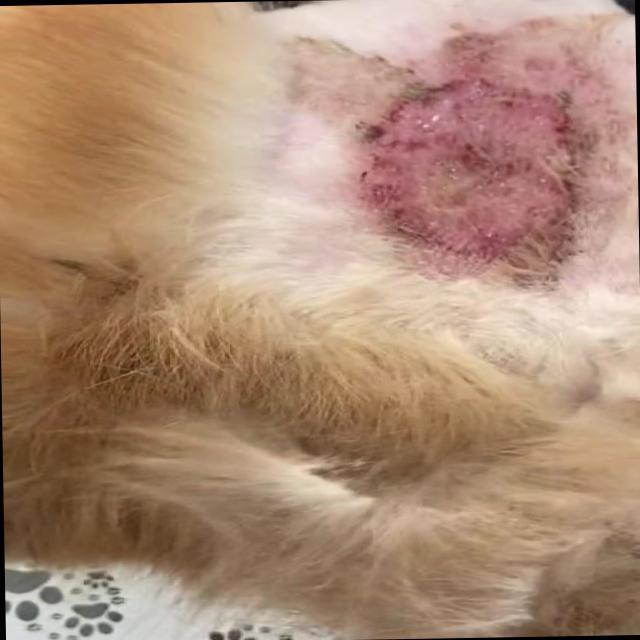allergic dermatitis: (347, 65, 603, 291)
